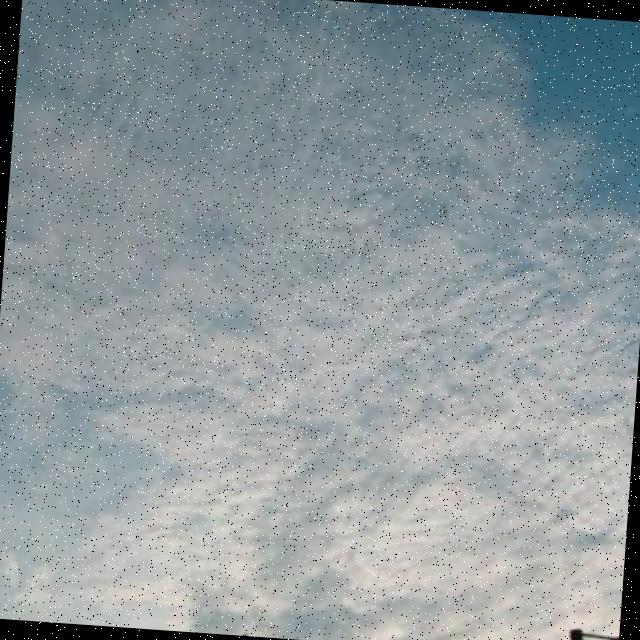Cc: (1, 55, 640, 540)
